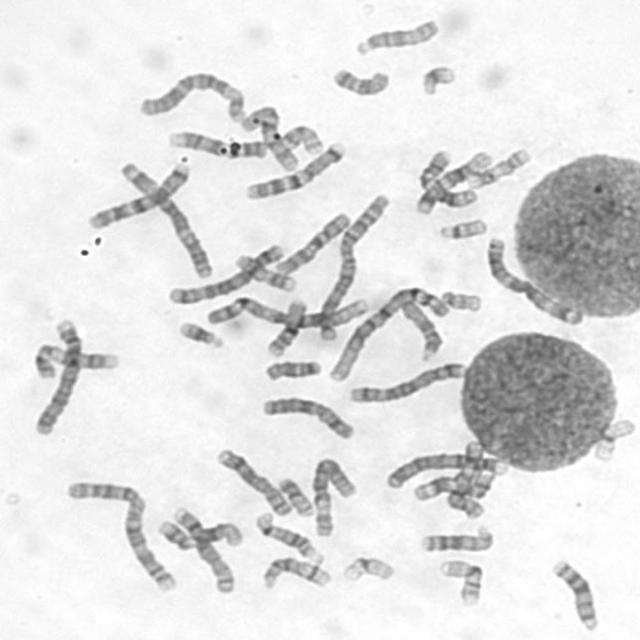A1: (323, 282, 449, 383), (200, 291, 374, 329)
A2: (59, 474, 179, 594), (311, 188, 392, 342)
A3: (114, 156, 215, 280), (479, 230, 586, 326)
B4: (26, 313, 85, 437), (380, 448, 510, 491)
B5: (164, 238, 287, 306), (344, 358, 466, 404)
C10: (268, 206, 352, 276), (236, 100, 301, 173)
C11: (412, 146, 485, 212), (407, 468, 498, 503)
C12: (410, 145, 492, 213), (151, 514, 245, 551)
C6: (133, 66, 249, 124), (305, 452, 360, 538)
C7: (82, 156, 193, 231), (239, 136, 348, 200)
C8: (166, 502, 236, 596), (210, 443, 294, 518)
C9: (163, 125, 269, 161), (27, 341, 122, 378)
D13: (546, 554, 602, 633), (416, 524, 508, 558)
D14: (250, 506, 324, 564), (256, 551, 332, 591)
D15: (349, 12, 442, 57), (394, 293, 445, 362)
E16: (261, 294, 309, 358), (434, 555, 485, 607)
E17: (462, 142, 534, 191), (229, 249, 297, 293)
E18: (326, 61, 392, 98), (259, 355, 323, 383)
F19: (588, 412, 636, 462), (337, 550, 397, 584)
F20: (273, 472, 315, 517), (275, 120, 325, 156)
G21: (173, 316, 226, 351), (415, 59, 458, 97)
G22: (432, 213, 489, 241), (436, 285, 484, 313)
X: (256, 391, 356, 441), (439, 436, 490, 518)
